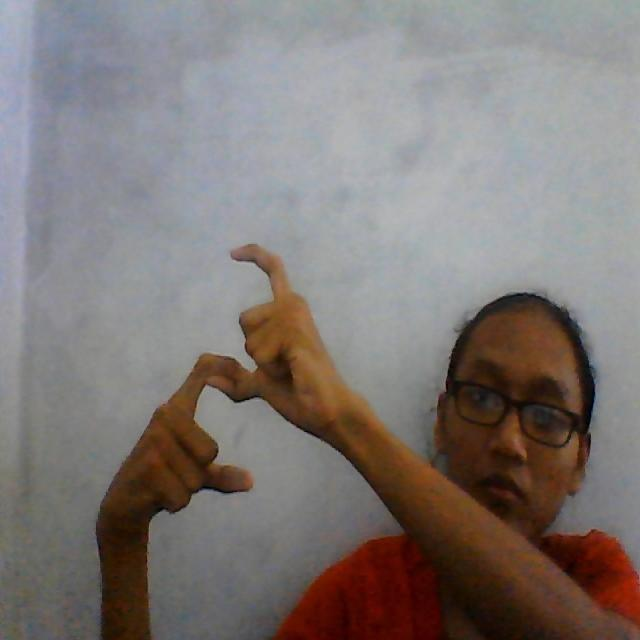S: (144, 240, 314, 508)
